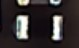COMP: (9, 10, 68, 46)
GAP: (17, 1, 62, 23)
